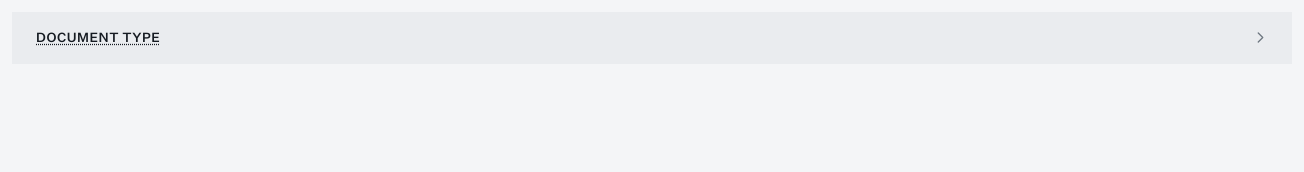
Test: FilterCard › shows the title tooltip when the header gets keyboard focus
Focus the button "Document type" at (98, 37), box [12,12,1292,64]
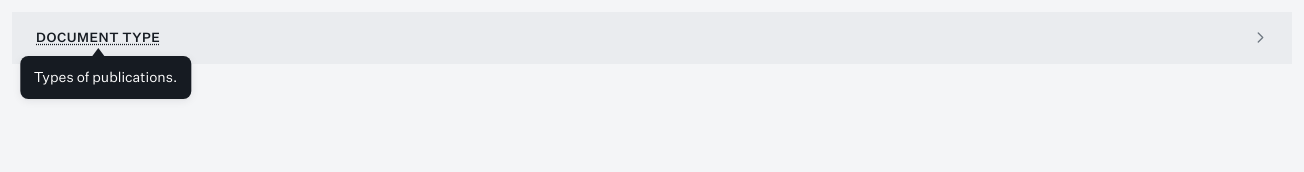
Check: the text "Types of publications." is shown, box [20,56,191,99]
